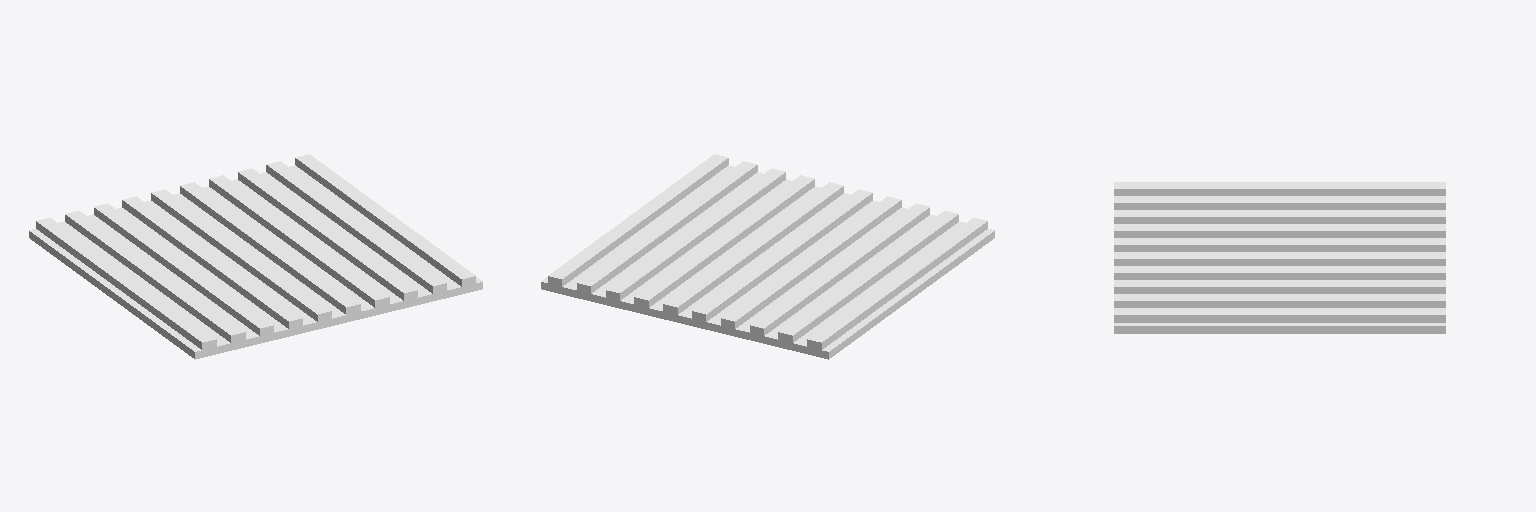
The model's file is ARADO.obj.
The picture shows the model from 3 angles: view 1: azimuth 30°, elevation 25°; view 2: azimuth 150°, elevation 25°; view 3: azimuth 270°, elevation 25°; orthographic projection.
Parts seen in each view (by area): view 1: object 1; view 2: object 1; view 3: object 1.
Part boxes in pixels (x1,y1,x2,y2): object 1: (29, 154, 482, 359); object 1: (541, 154, 994, 359); object 1: (1114, 182, 1445, 333).
Size of the model in its own units: 4 by 0.2 by 4.